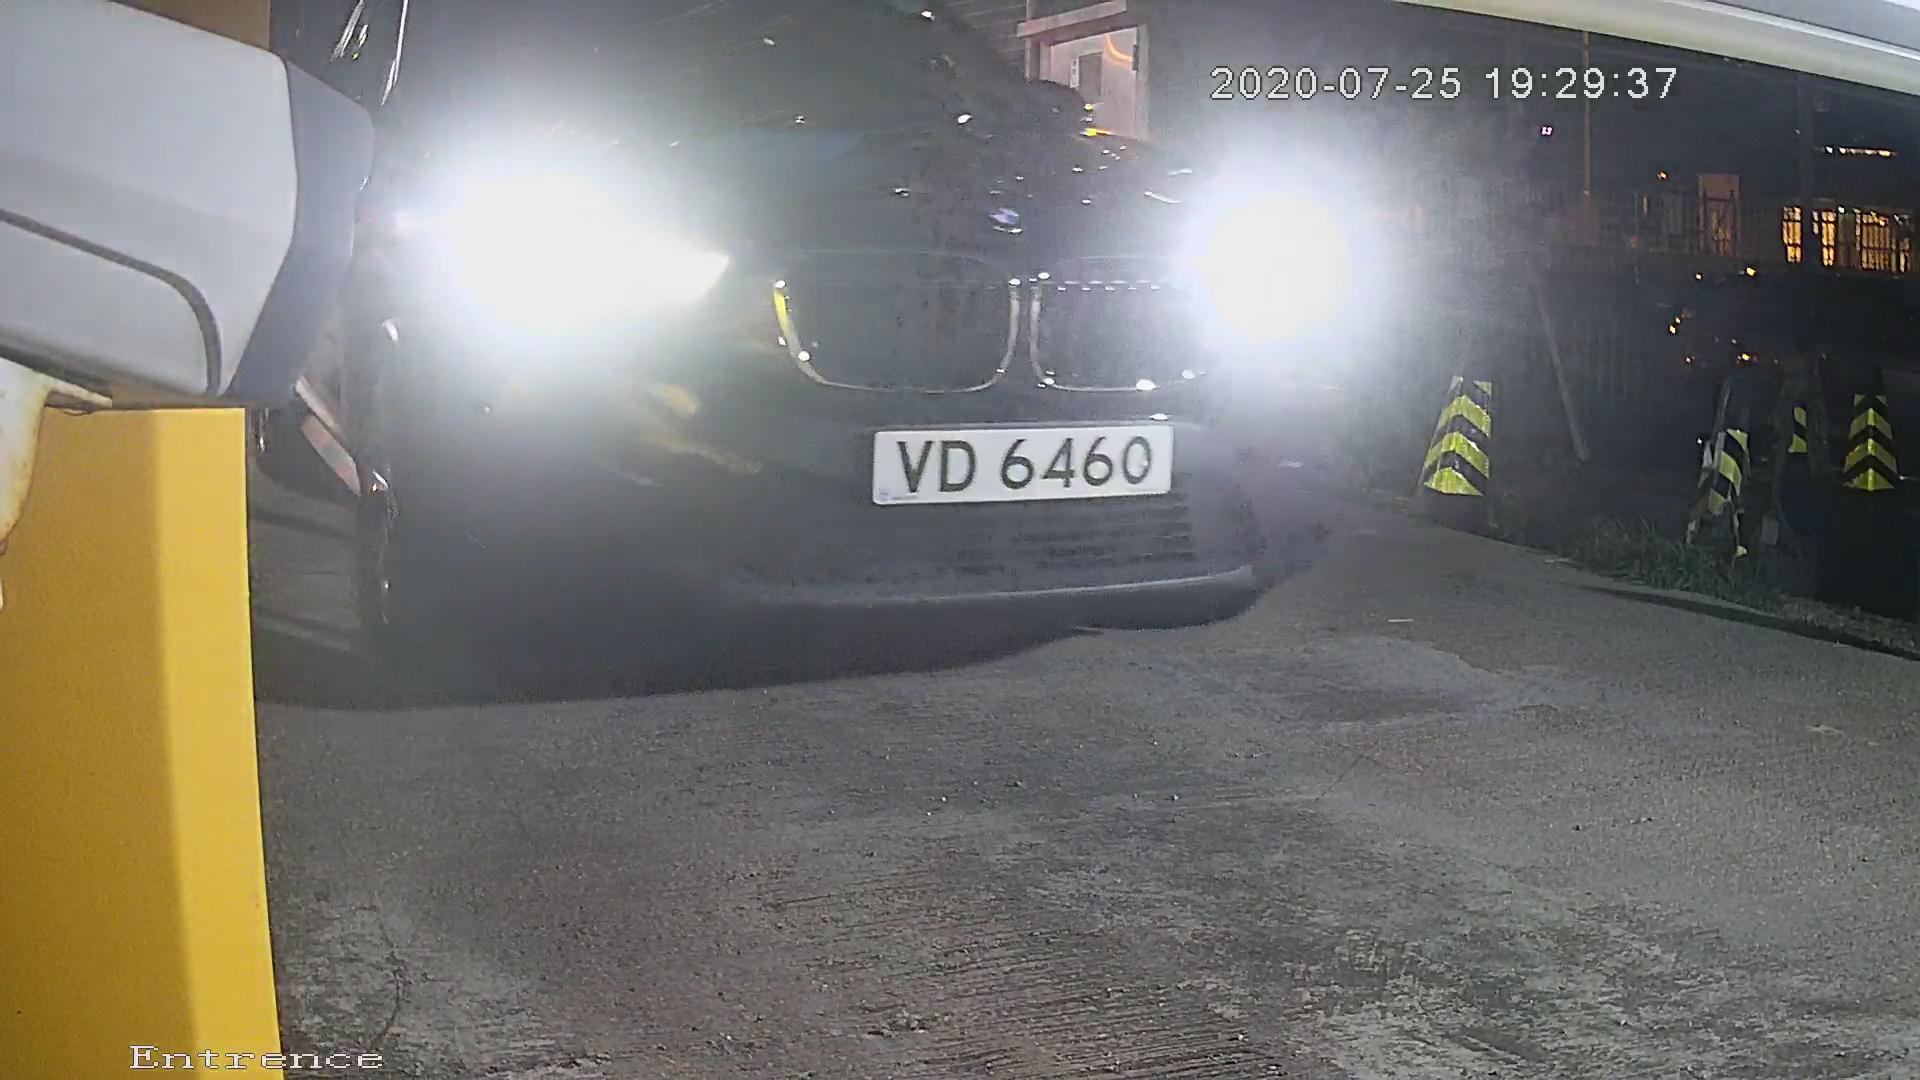privatecar: (219, 1, 1408, 723)
